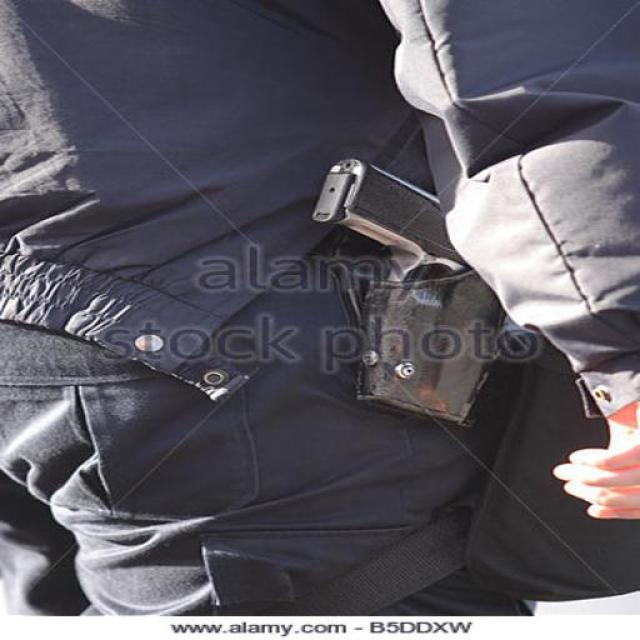pistol: (305, 153, 517, 428)
